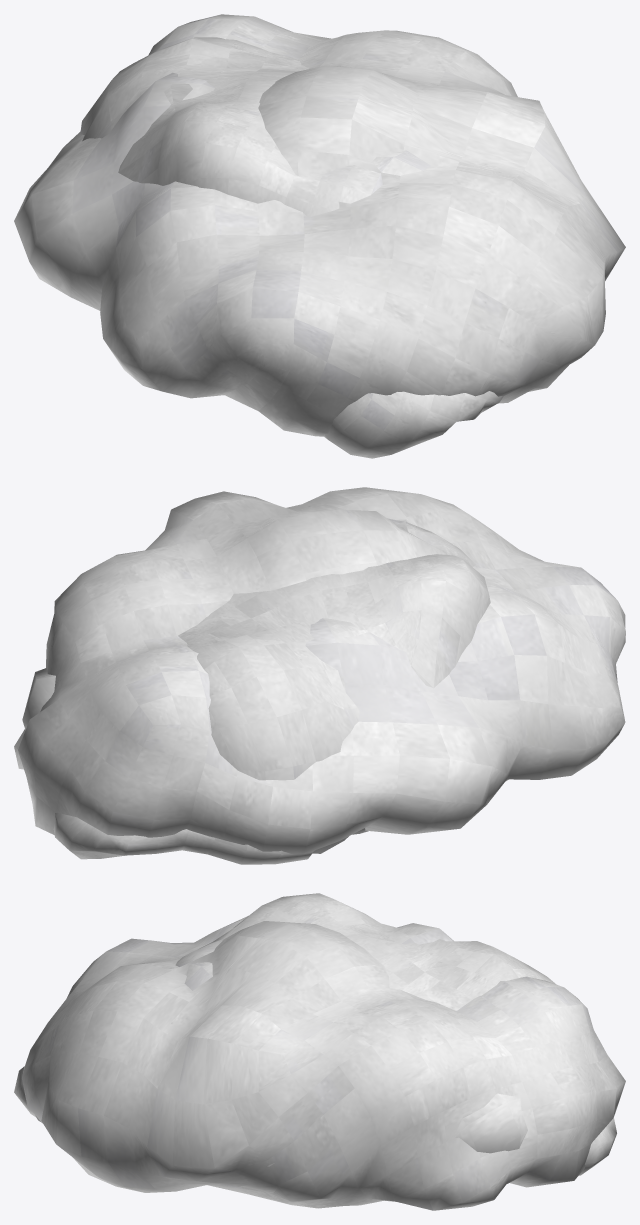
Rendered from Cloud.fbx.
3 views of the same model, one above another, from view 1: azimuth 30°, elevation 25°; view 2: azimuth 150°, elevation 25°; view 3: azimuth 270°, elevation 25° (orthographic). The views are drawn at different scales.
Visible parts, largest first — view 1: MayTron, MayCao, MayMong; view 2: MayTron, MayCao, MayMong; view 3: MayTron, MayCao, MayMong.
Part boxes in pixels (x1,y1,x2,y2): MayTron: [14, 14, 625, 436]; MayCao: [80, 37, 431, 217]; MayMong: [324, 391, 503, 458]; MayTron: [14, 487, 625, 854]; MayCao: [178, 518, 490, 853]; MayMong: [22, 668, 368, 864]; MayTron: [22, 916, 625, 1210]; MayCao: [175, 893, 555, 1010]; MayMong: [14, 1066, 616, 1193].
Bounding box in the file's own units: 12.89 × 16.73 × 6.59.
1 material, 1 textured.
